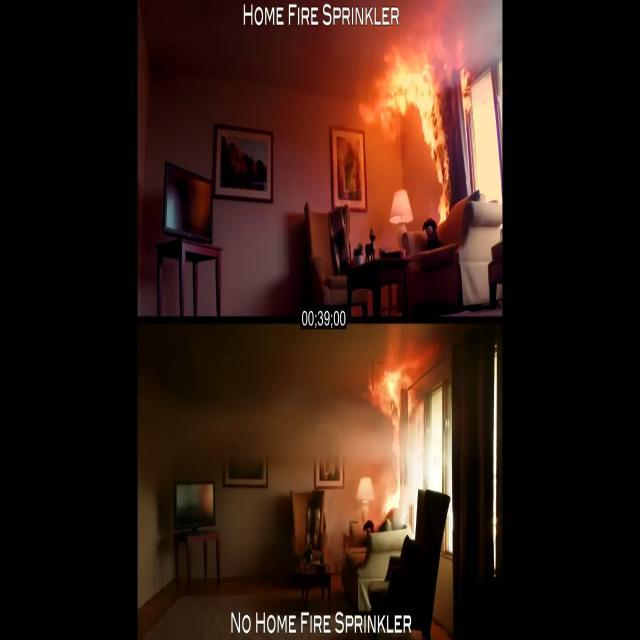Fire: (369, 42, 452, 134), (419, 89, 457, 219), (367, 356, 417, 420)
